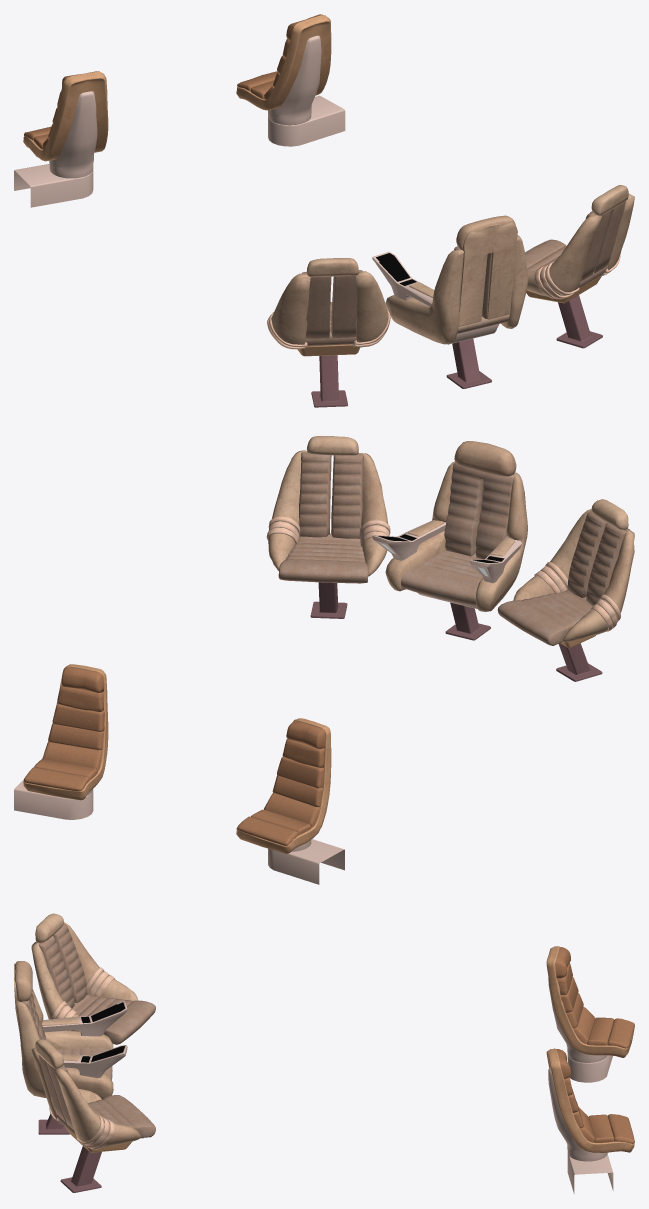
The model's file is noCol.obj.
3 renders of one model, top to bottom at view 1: azimuth 30°, elevation 25°; view 2: azimuth 150°, elevation 25°; view 3: azimuth 270°, elevation 25°, orthographic. The views are drawn at different scales.
Parts seen in each view (by area): view 1: BridgeTNG_CaptainsChair_0, BridgeTNG_BridgeChair_0.001, BridgeTNG_BridgeChair_0, BridgeTNG_FlightControlConsole_1.001, BridgeTNG_OperationsConsole_1; view 2: BridgeTNG_CaptainsChair_0, BridgeTNG_BridgeChair_0, BridgeTNG_BridgeChair_0.001, BridgeTNG_OperationsConsole_1, BridgeTNG_FlightControlConsole_1.001; view 3: BridgeTNG_CaptainsChair_0, BridgeTNG_BridgeChair_0.001, BridgeTNG_BridgeChair_0, BridgeTNG_OperationsConsole_1, BridgeTNG_FlightControlConsole_1.001.
Boxes of the visible parts, x1,y1,x2,y2 form: BridgeTNG_CaptainsChair_0: (372,215,527,388); BridgeTNG_BridgeChair_0.001: (267,258,390,407); BridgeTNG_BridgeChair_0: (525,185,634,348); BridgeTNG_FlightControlConsole_1.001: (236,14,345,146); BridgeTNG_OperationsConsole_1: (14,71,108,207); BridgeTNG_CaptainsChair_0: (372,441,527,640); BridgeTNG_BridgeChair_0: (266,436,390,618); BridgeTNG_BridgeChair_0.001: (497,499,634,681); BridgeTNG_OperationsConsole_1: (236,718,344,884); BridgeTNG_FlightControlConsole_1.001: (14,664,108,819); BridgeTNG_CaptainsChair_0: (14,961,127,1134); BridgeTNG_BridgeChair_0.001: (31,913,155,1044); BridgeTNG_BridgeChair_0: (31,1039,155,1192); BridgeTNG_OperationsConsole_1: (546,946,634,1082); BridgeTNG_FlightControlConsole_1.001: (546,1048,634,1193).
Bounding box in the file's own units: 2.7 × 1.28 × 4.49.
4 materials, 4 textured.
